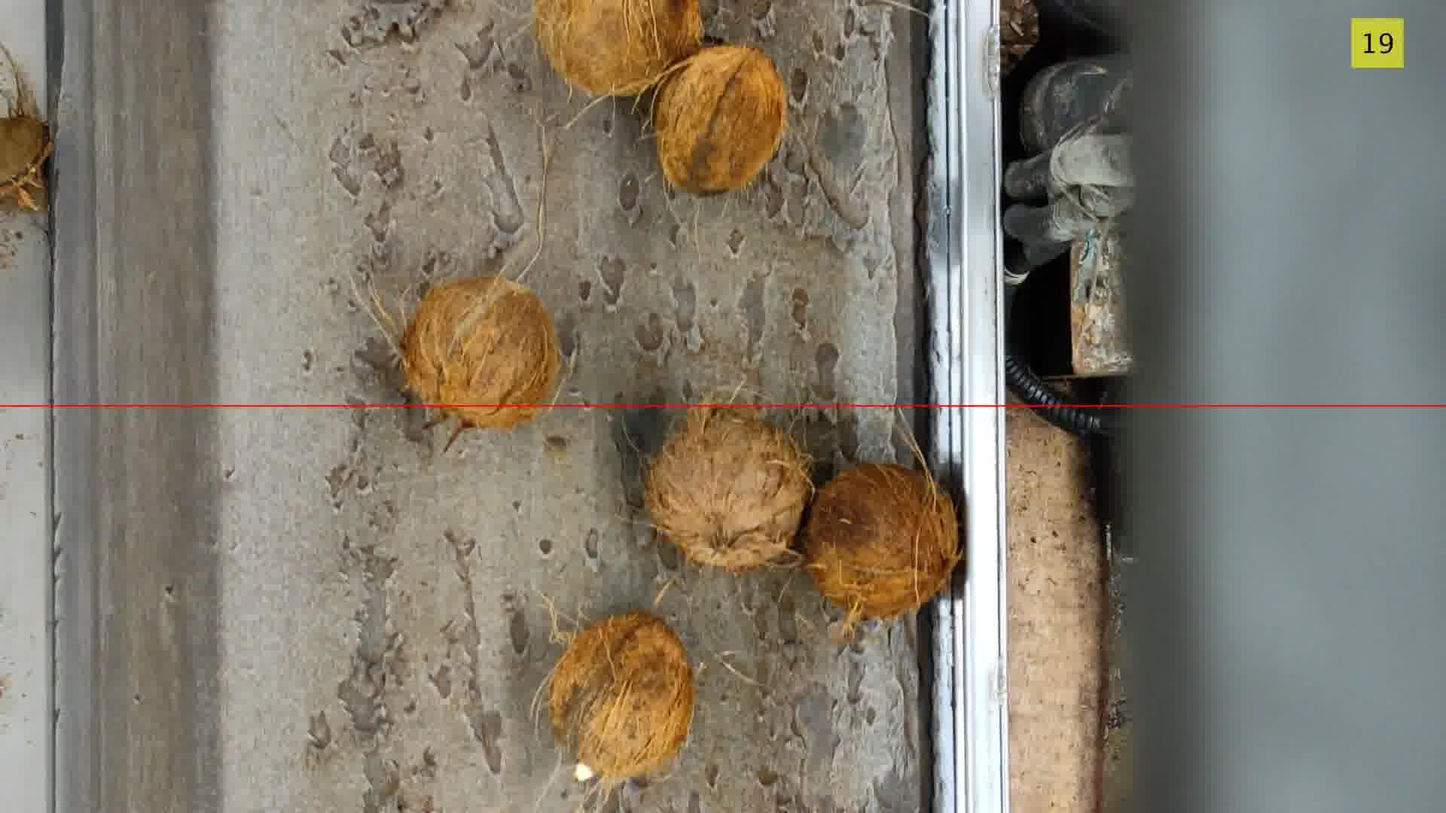Coconut: (645, 406, 811, 570), (548, 612, 694, 781), (805, 463, 960, 618), (404, 277, 559, 428), (653, 45, 786, 193), (534, 0, 701, 95), (0, 46, 53, 210)
